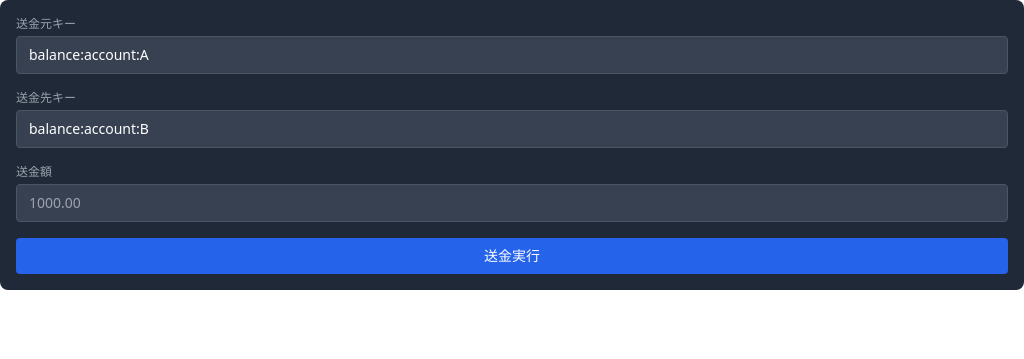
Test: TransferForm › 送金元キーが空のときバリデーションエラーを表示する
The width and height of the screenshot is (1024, 359).
Clear the field below "送金元キー". click: (512, 55)
box: x1=16 y1=36 x2=1008 y2=74
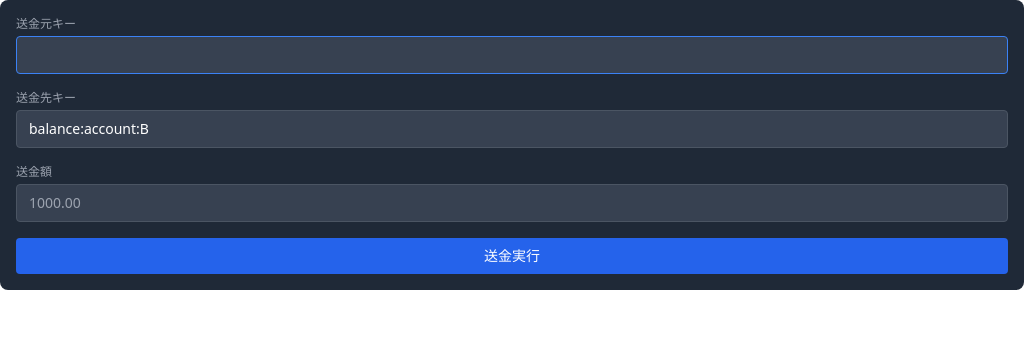
Type "1000" into the number field. click: (512, 203)
box: x1=16 y1=184 x2=1008 y2=222
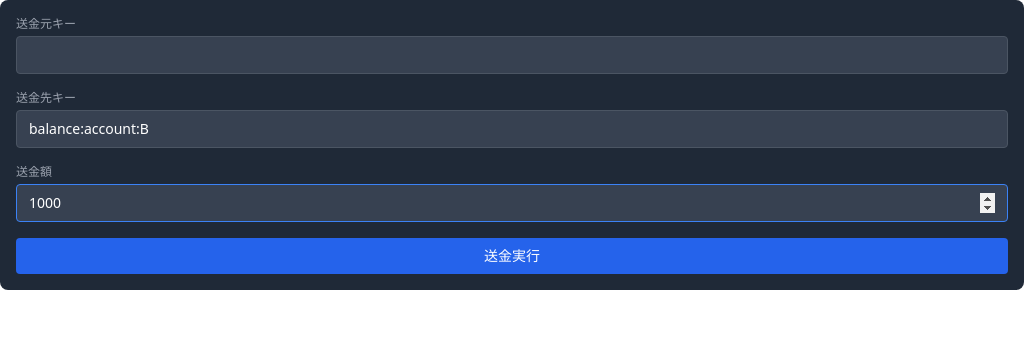
Click the button "送金実行". click: (512, 256)
box: x1=16 y1=238 x2=1008 y2=274
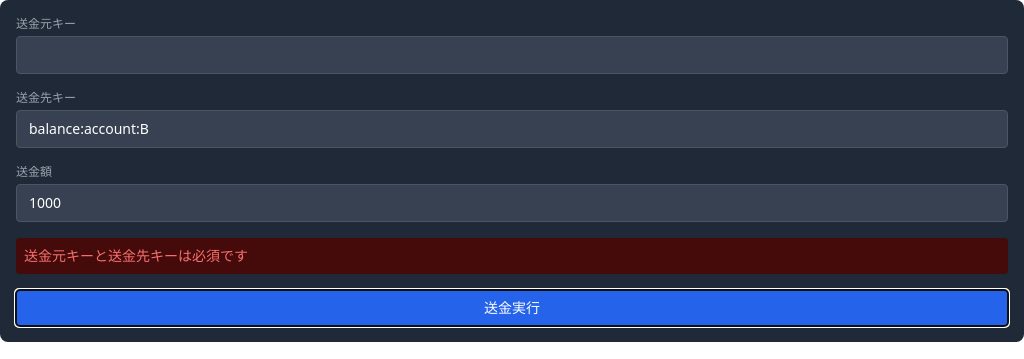
Now the text "送金元キーと送金先キーは必須です" is shown, box x1=16 y1=238 x2=1008 y2=274
